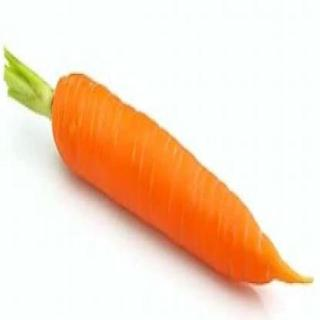carrot: (51, 71, 302, 293)
